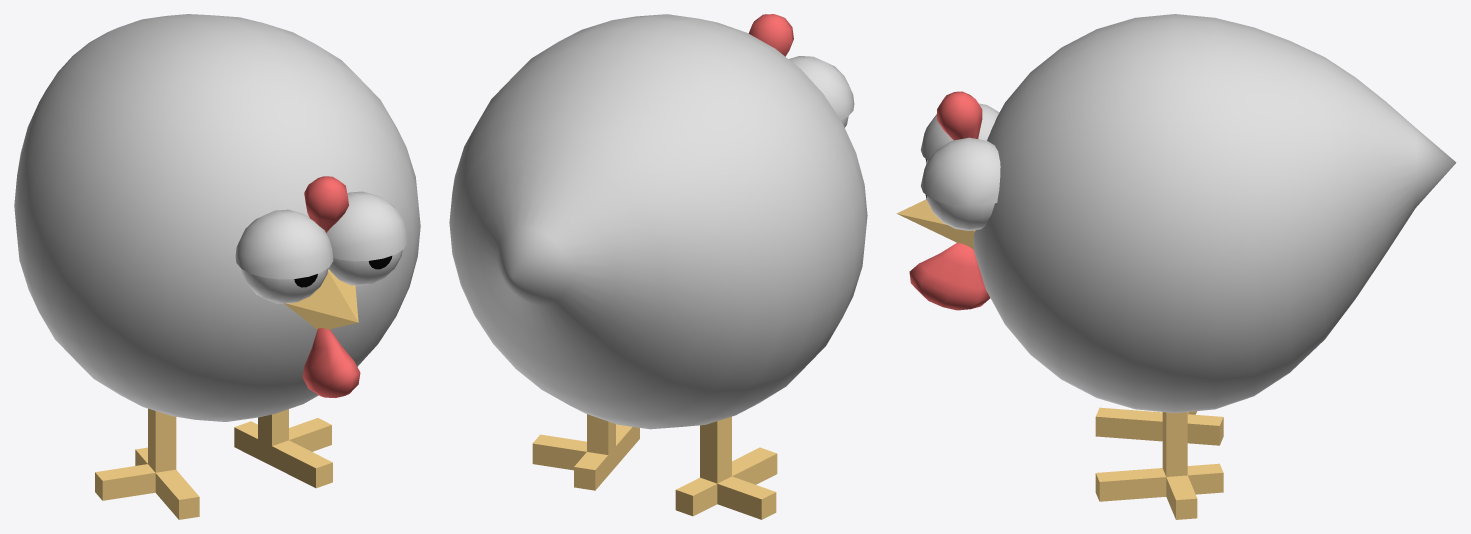
File: Fauna_Chicken.fbx
3 views of the same model, side by side, from view 1: azimuth 30°, elevation 25°; view 2: azimuth 150°, elevation 25°; view 3: azimuth 270°, elevation 25° (orthographic). The views are drawn at different scales.
Parts seen in each view (by area): view 1: Fauna_Chicken, eyelid2, foot2, foot1, eyelid1, ball_low, beak, ball_high, eye2, eye1; view 2: Fauna_Chicken, foot2, foot1, eyelid2, ball_high; view 3: Fauna_Chicken, foot1, eyelid1, ball_low, foot2, ball_high, eye1, beak, eyelid2.
Part boxes in pixels (bbox=[...]): Fauna_Chicken: bbox=[14, 14, 420, 421]; eyelid2: bbox=[235, 209, 333, 279]; foot2: bbox=[95, 408, 199, 519]; foot1: bbox=[234, 409, 332, 488]; eyelid1: bbox=[326, 191, 407, 261]; ball_low: bbox=[302, 328, 360, 397]; beak: bbox=[284, 269, 358, 329]; ball_high: bbox=[304, 176, 348, 232]; eye2: bbox=[241, 268, 328, 303]; eye1: bbox=[328, 250, 402, 285]; Fauna_Chicken: bbox=[449, 14, 867, 429]; foot2: bbox=[675, 416, 777, 519]; foot1: bbox=[532, 414, 639, 490]; eyelid2: bbox=[788, 56, 854, 120]; ball_high: bbox=[748, 14, 793, 56]; Fauna_Chicken: bbox=[973, 14, 1456, 413]; foot1: bbox=[1095, 412, 1223, 519]; eyelid1: bbox=[921, 137, 1000, 206]; ball_low: bbox=[909, 243, 990, 310]; foot2: bbox=[1095, 407, 1223, 445]; ball_high: bbox=[937, 91, 982, 140]; eye1: bbox=[925, 195, 994, 230]; beak: bbox=[896, 199, 975, 249]; eyelid2: bbox=[921, 103, 999, 160].
Size of the model in its own units: 0.7673 by 0.9154 by 1.08.
